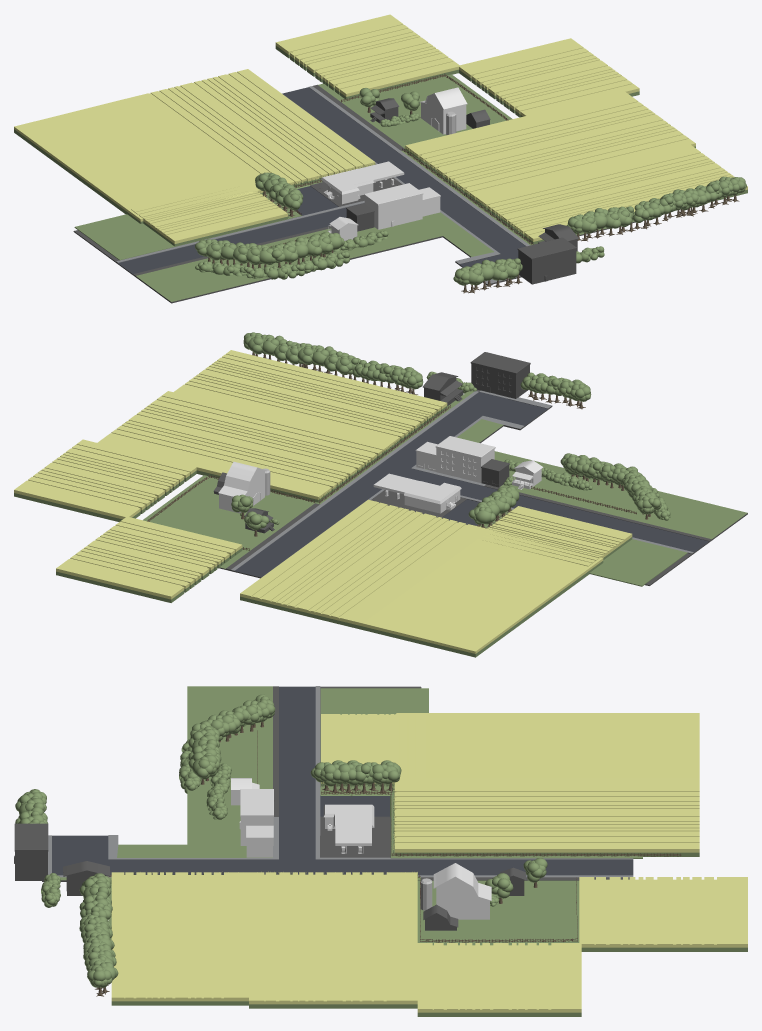
The model's file is Final_Gas_Station.fbx.
3 views of the same model, one above another, from view 1: azimuth 30°, elevation 25°; view 2: azimuth 150°, elevation 25°; view 3: azimuth 270°, elevation 25° (orthographic). The views are drawn at different scales.
Visible parts, largest first — view 1: Corn1, Floor, Corn3, Corn4, Corn5, Corn6, Corn2, pCube204, House5, House2, Tree_pSphere23, Tree_pSphere17 (+15 smaller); view 2: Corn1, Floor, Corn3, Corn4, Corn5, Corn6, Corn2, pCube204, House5, House2, Tree_pSphere23, House6 (+11 smaller); view 3: Corn1, Floor, Corn3, Corn4, Corn5, Corn6, Corn2, pCube204, House6, Tree_pSphere13, House5, Roof (+13 smaller).
Boxes of the visible parts, x1,y1,x2,y2 form: Corn1: [14, 69, 375, 223]; Floor: [73, 74, 635, 303]; Corn3: [405, 92, 695, 201]; Corn4: [476, 144, 747, 244]; Corn5: [275, 14, 459, 99]; Corn6: [459, 38, 639, 117]; Corn2: [131, 181, 287, 246]; pCube204: [74, 193, 302, 260]; House5: [517, 237, 576, 284]; House2: [364, 183, 423, 229]; Tree_pSphere23: [453, 258, 522, 293]; Tree_pSphere17: [195, 239, 276, 268]; Corn1: [240, 499, 603, 657]; Floor: [143, 389, 747, 585]; Corn3: [97, 391, 389, 502]; Corn4: [173, 350, 447, 448]; Corn5: [56, 517, 242, 602]; Corn6: [14, 439, 196, 521]; Corn2: [478, 506, 632, 566]; pCube204: [479, 509, 687, 586]; House5: [470, 352, 530, 398]; House2: [435, 436, 495, 482]; Tree_pSphere23: [520, 372, 591, 409]; House6: [218, 461, 266, 513]; Corn1: [394, 713, 699, 856]; Floor: [42, 686, 633, 945]; Corn3: [249, 872, 417, 1008]; Corn4: [111, 872, 249, 1005]; Corn5: [579, 877, 747, 951]; Corn6: [417, 943, 581, 1016]; Corn2: [321, 714, 425, 786]; pCube204: [320, 688, 428, 795]; House6: [433, 863, 491, 919]; Tree_pSphere13: [310, 760, 401, 793]; House5: [14, 823, 48, 880]; Roof: [323, 804, 374, 845].
Size of the model in its own units: 2926 by 212 by 2754.
